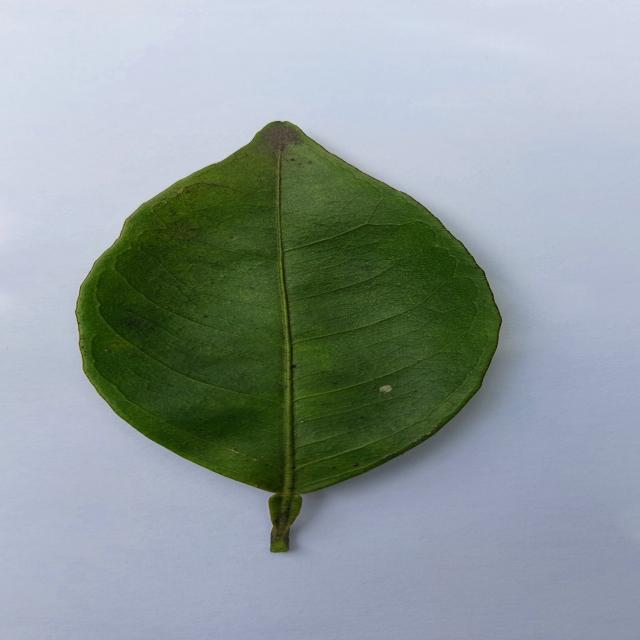greening: (78, 122, 500, 552)
